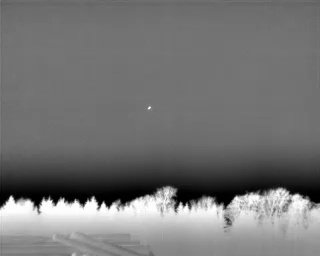BIRD: (146, 104, 153, 112)
